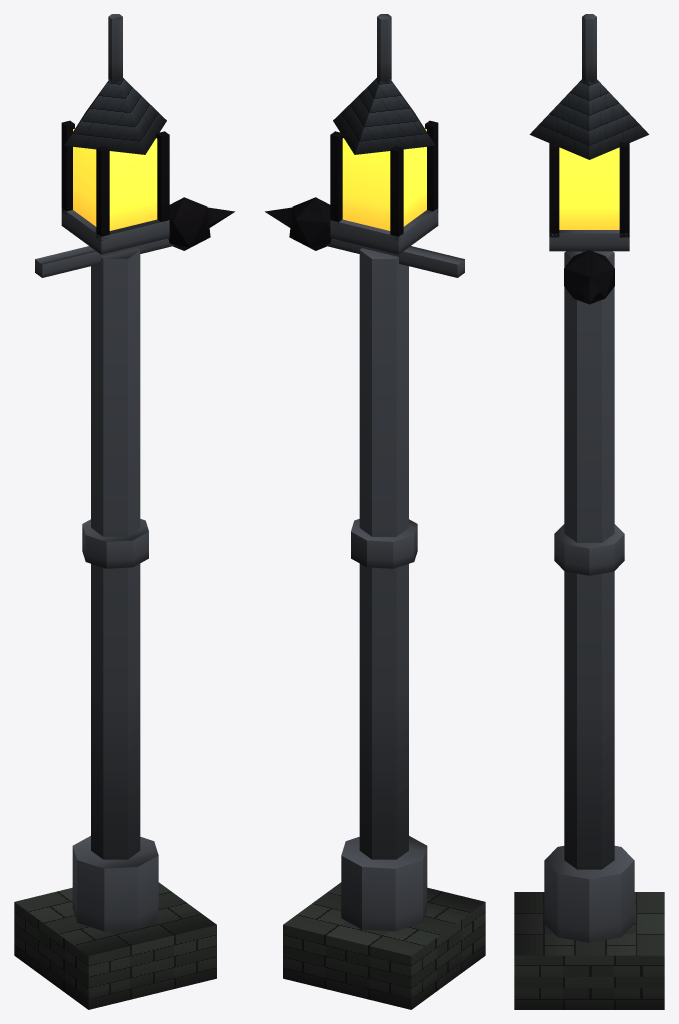
Rendered from streetlamp.glb.
3 views of the same model, side by side, from view 1: azimuth 30°, elevation 25°; view 2: azimuth 150°, elevation 25°; view 3: azimuth 270°, elevation 25° (orthographic).
Parts seen in each view (by area): view 1: streetlamp; view 2: streetlamp; view 3: streetlamp.
Part boxes in pixels (x1,y1,x2,y2): streetlamp: (14,14,234,1009); streetlamp: (265,14,485,1009); streetlamp: (514,14,664,1009).
Size of the model in its own units: 0.46 by 2.12 by 0.3.
1 material, 1 textured.
